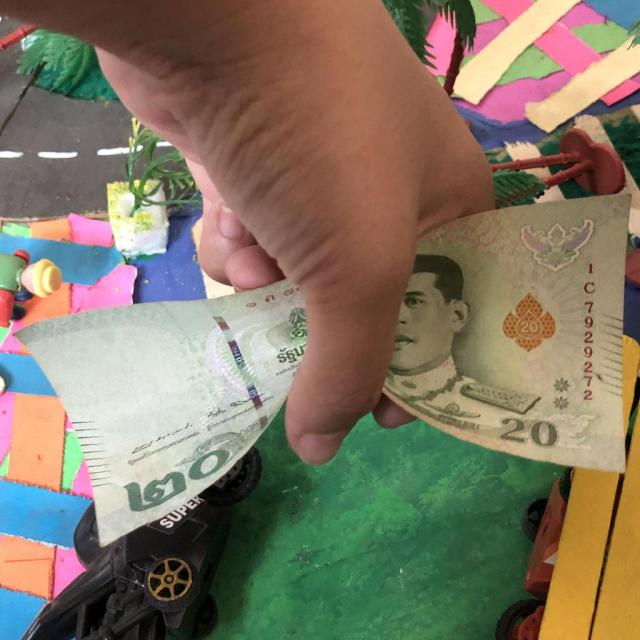THAI20: (19, 281, 307, 546), (384, 194, 629, 471)
